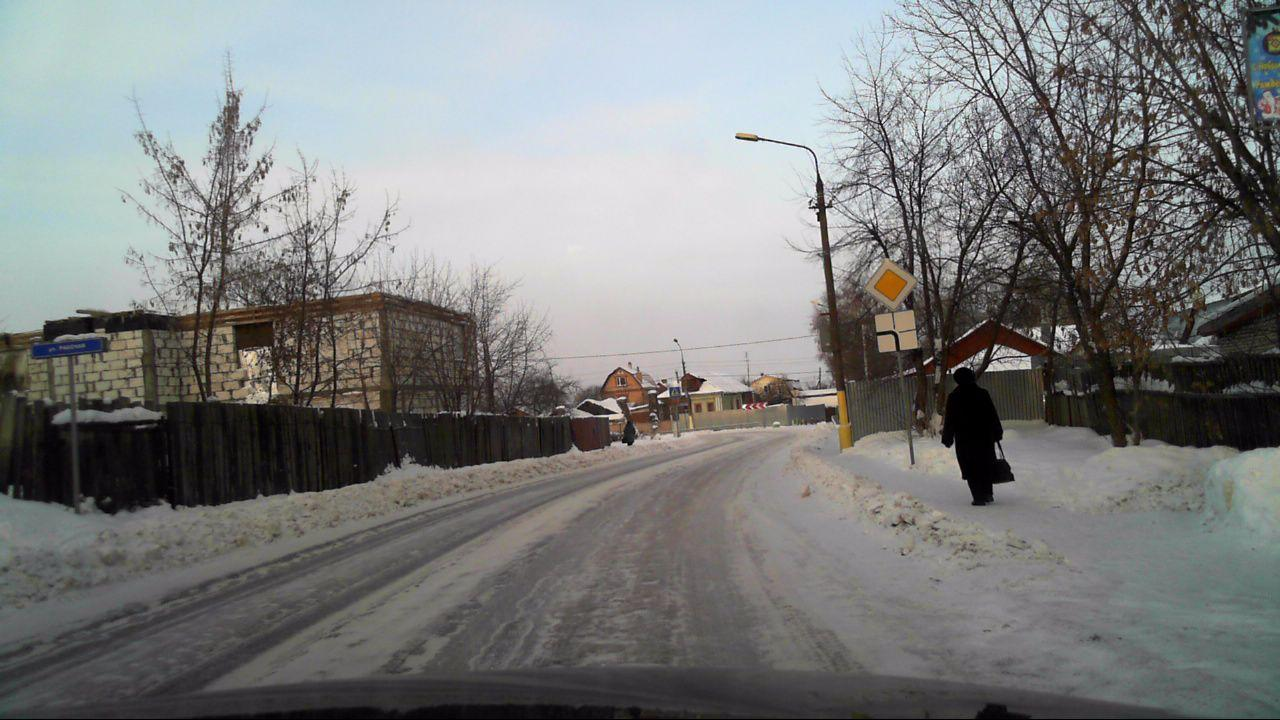1_34_2: (741, 402, 768, 411)
2_1: (863, 256, 918, 311)
5_19_2: (669, 386, 681, 397)
6_11: (29, 336, 107, 357)
8_13: (874, 309, 919, 354)
